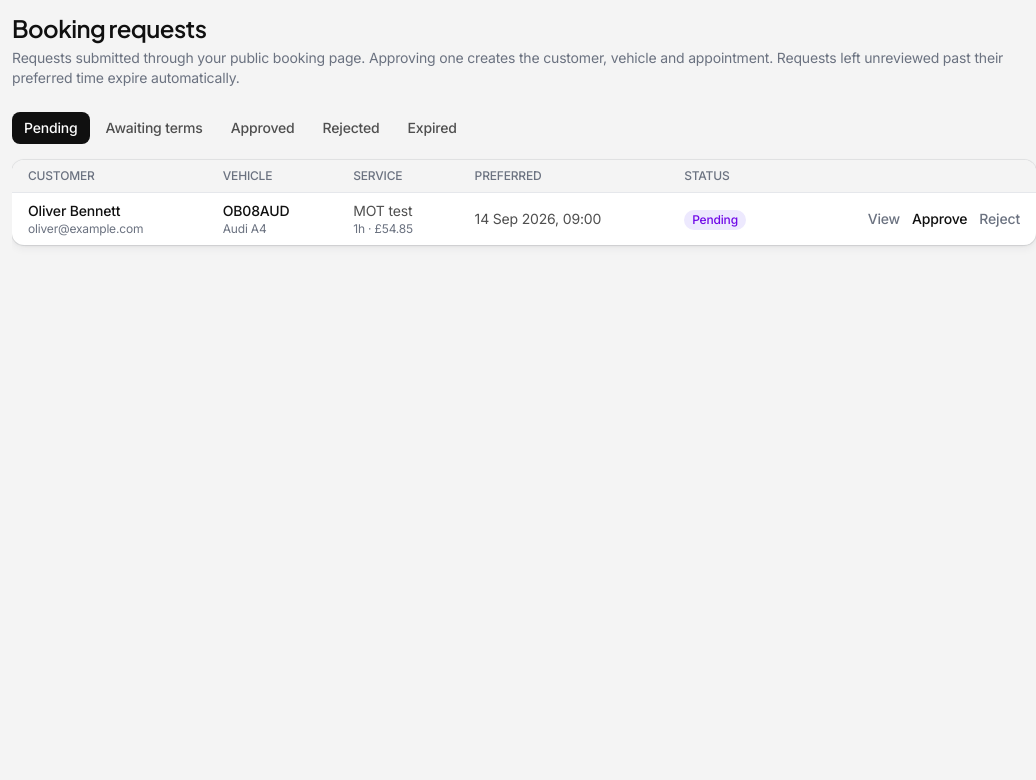
BookingRequestsList — approving › lets staff change the preselected employee, and blocks approval if cleared
The width and height of the screenshot is (1036, 780).
expect the text "Oliver Bennett" is shown: met, box [28,202,120,219]
Step 1. Click the button "Approve" → coordinates (940, 219), box [912,209,967,229]
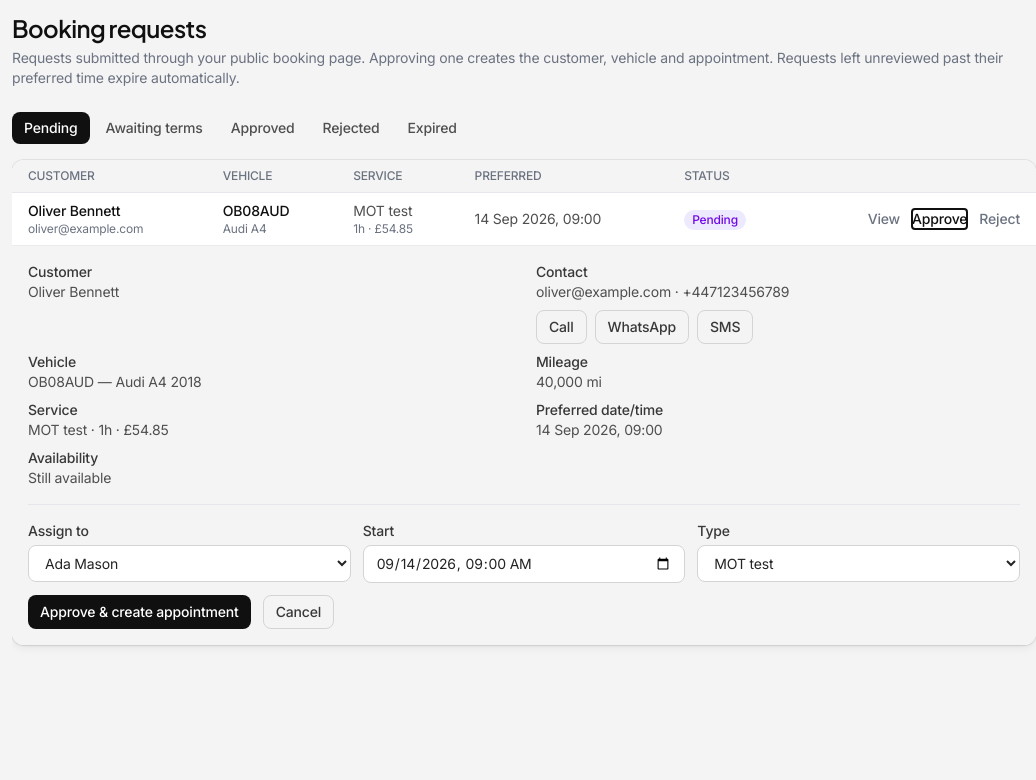
Step 2. Select "Bea Mason" in the dropdown labelled "Assign to" → coordinates (189, 564), box [28,545,351,582]
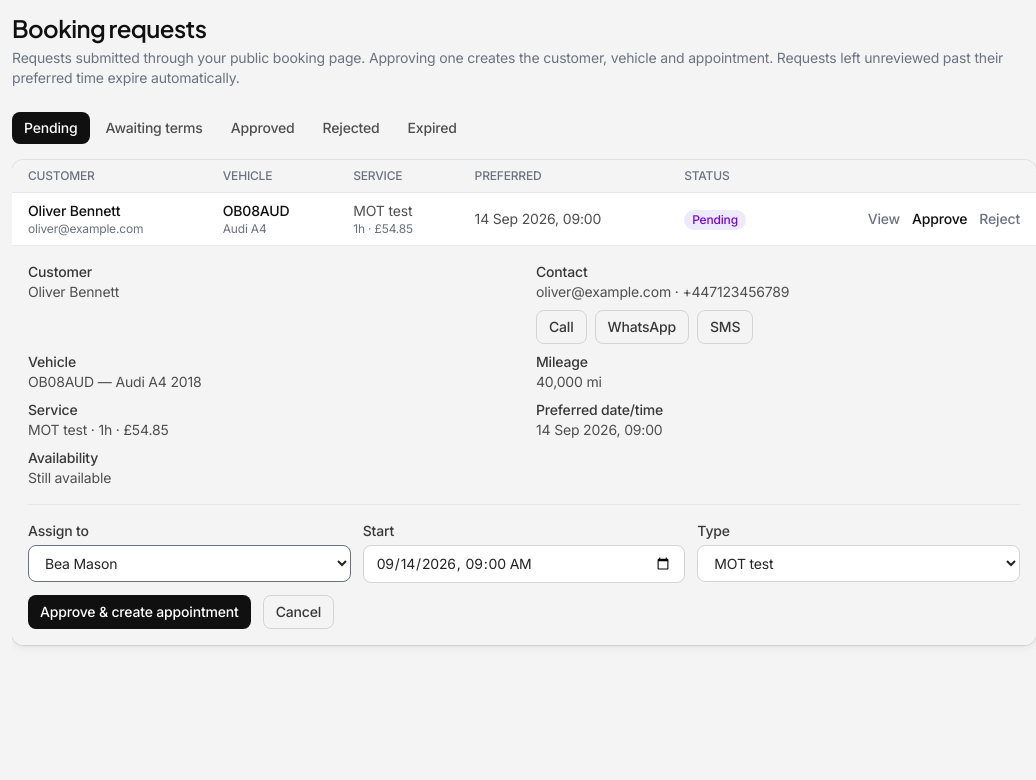
Step 3. Select "Select employee…" in the dropdown labelled "Assign to" → coordinates (189, 564), box [28,545,351,582]
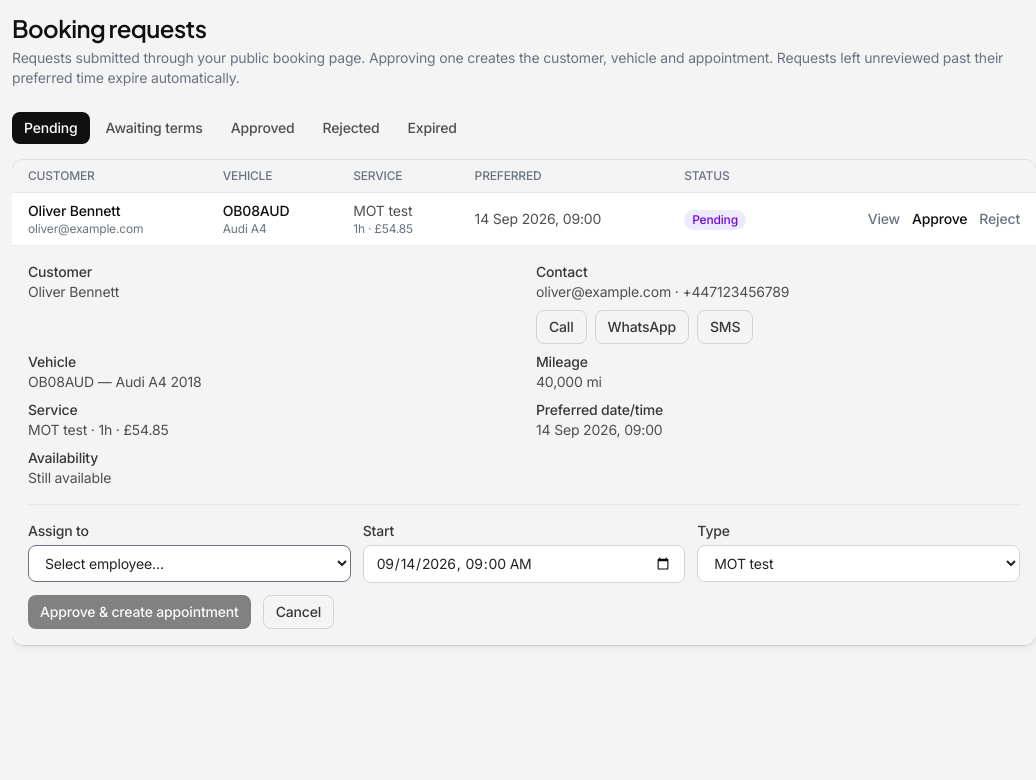
expect the button "Approve & create appointment" is disabled: met, box [28,595,251,629]
